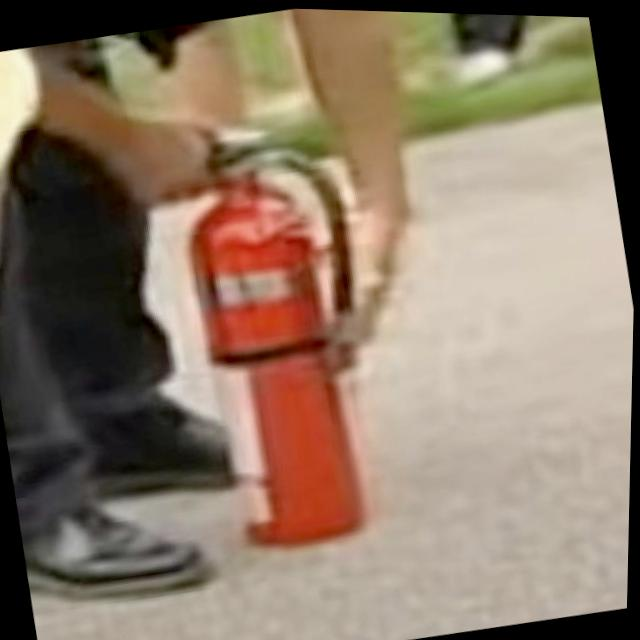FireExtinguisher: (105, 90, 430, 572)
